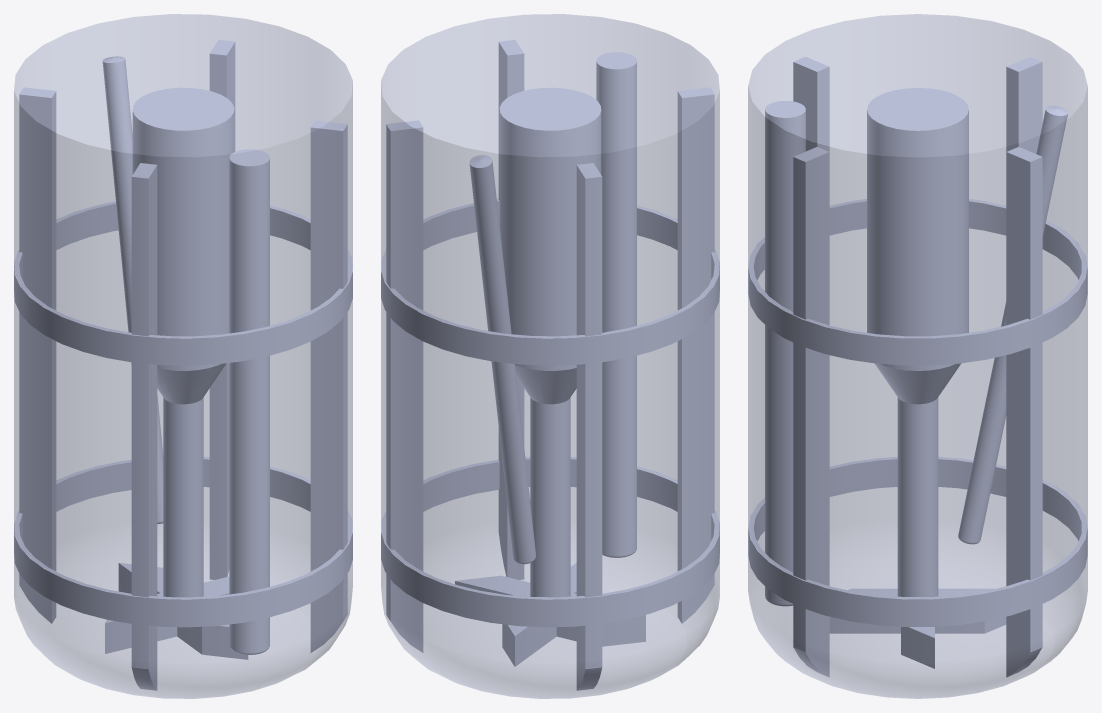
3 renders of one model, left to right at view 1: azimuth 30°, elevation 25°; view 2: azimuth 150°, elevation 25°; view 3: azimuth 270°, elevation 25°, orthographic.
Parts seen in each view (by area): view 1: Tank, Baffle_cage, EasyMax-Gassing Imp, Tube-Probe, Tr1; view 2: Tank, Baffle_cage, EasyMax-Gassing Imp, Tube-Probe, Tr1; view 3: Tank, Baffle_cage, EasyMax-Gassing Imp, Tube-Probe, Tr1.
Boxes of the visible parts, x1=… form: Tank: x1=14, y1=14, x2=352, y2=698; Baffle_cage: x1=14, y1=40, x2=352, y2=690; EasyMax-Gassing Imp: x1=105, y1=87, x2=248, y2=659; Tube-Probe: x1=229, y1=149, x2=269, y2=654; Tr1: x1=102, y1=56, x2=163, y2=524; Tank: x1=381, y1=14, x2=719, y2=698; Baffle_cage: x1=381, y1=40, x2=719, y2=690; EasyMax-Gassing Imp: x1=455, y1=87, x2=645, y2=666; Tube-Probe: x1=596, y1=52, x2=636, y2=557; Tr1: x1=469, y1=155, x2=535, y2=564; Tank: x1=748, y1=14, x2=1087, y2=698; Baffle_cage: x1=748, y1=56, x2=1087, y2=677; EasyMax-Gassing Imp: x1=829, y1=88, x2=1006, y2=668; Tube-Probe: x1=765, y1=101, x2=805, y2=606; Tr1: x1=958, y1=105, x2=1068, y2=544.
Bounding box in the file's own units: 0.05 × 0.0938 × 0.05.
